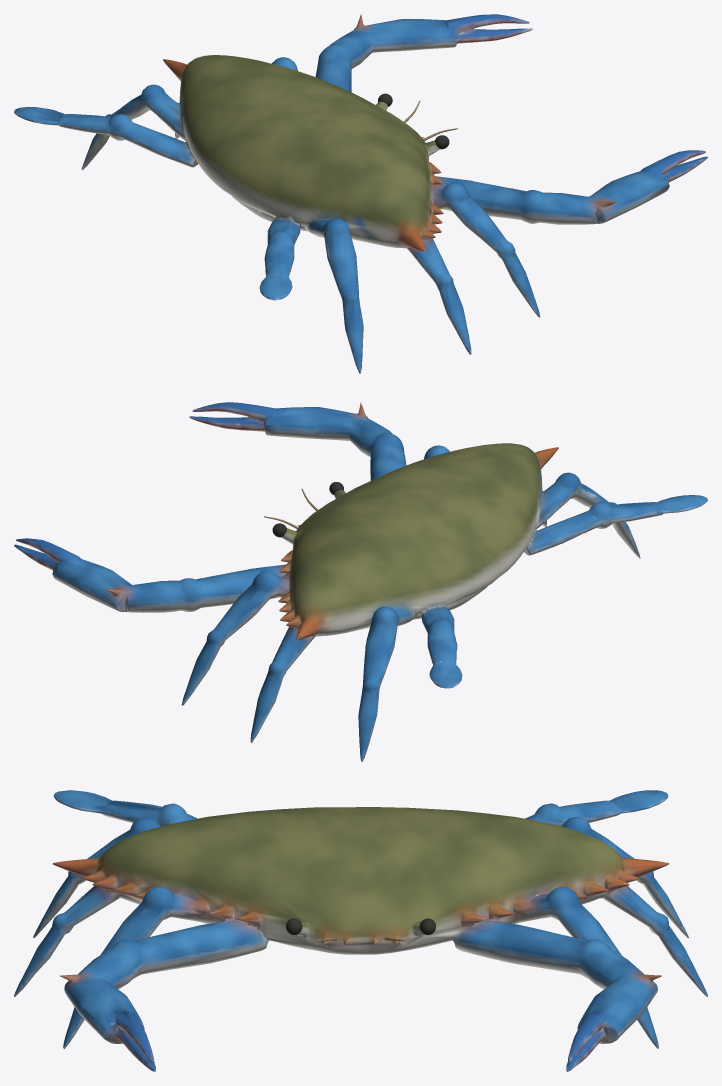
File: crab-blue.glb
The picture shows the model from 3 angles, top to bottom: view 1: azimuth 30°, elevation 25°; view 2: azimuth 150°, elevation 25°; view 3: azimuth 270°, elevation 25°; orthographic projection. The views are drawn at different scales.
Parts seen in each view (by area): view 1: Continuous anatomical skin | crab; view 2: Continuous anatomical skin | crab; view 3: Continuous anatomical skin | crab.
Boxes of the visible parts, <box> form: Continuous anatomical skin | crab: <box>14,14,707,373</box>; Continuous anatomical skin | crab: <box>14,402,707,761</box>; Continuous anatomical skin | crab: <box>14,790,707,1071</box>.
Bounding box in the file's own units: 0.1902 × 0.0533 × 0.2023.
3 materials, 1 textured.
